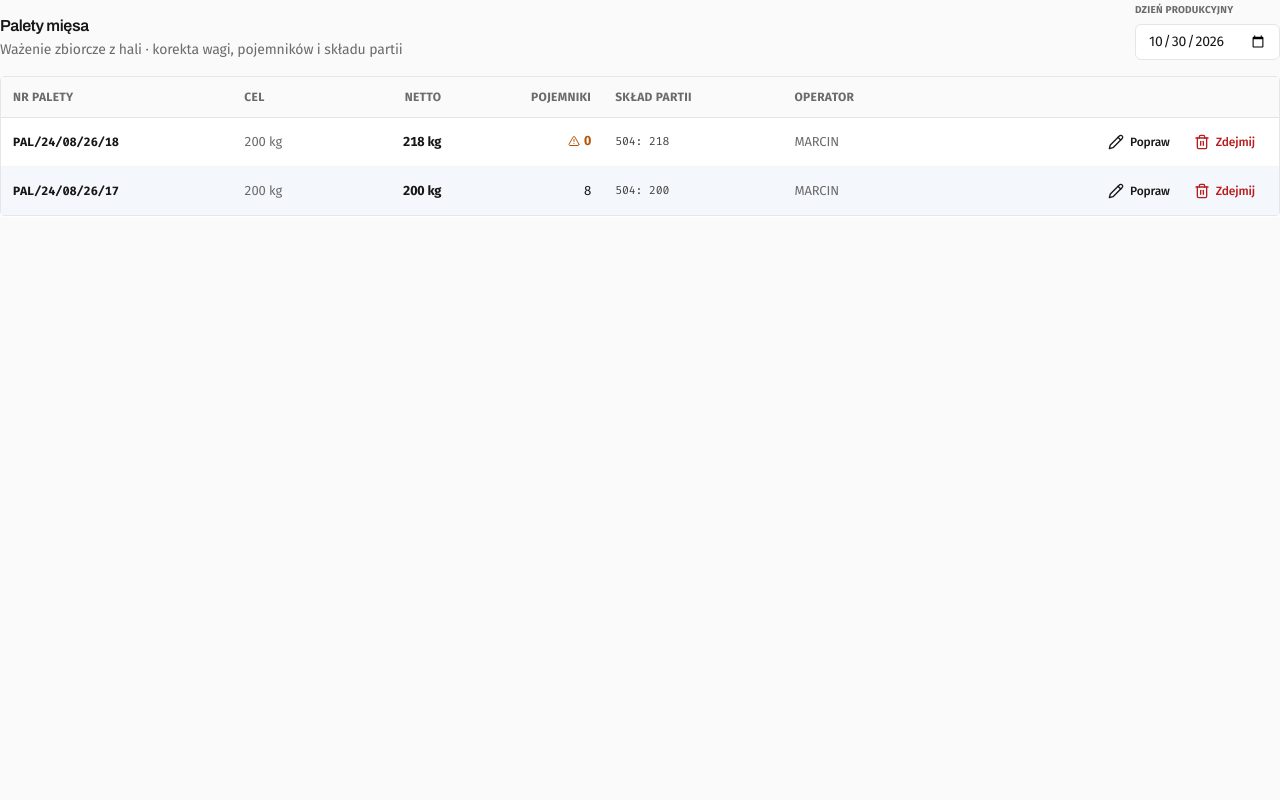
Test case: MeatPalletsPage — korekta palety › bez powodu nie da się zapisać
This screenshot has width=1280, height=800.
Click the button "Popraw" in the row of "PAL/24/08/26/18" at coordinates (1139, 142), box [1096, 126, 1182, 158]
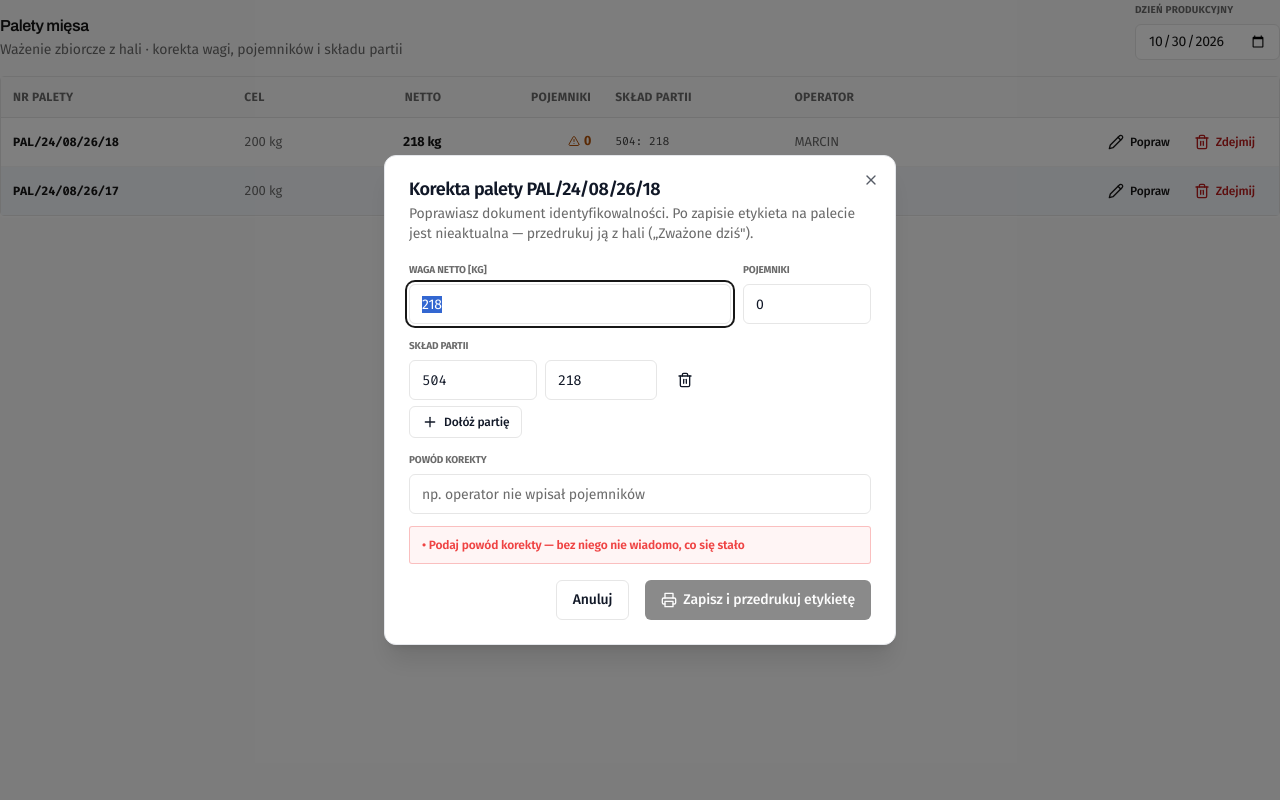
Expected: the button "Zapisz i przedrukuj etykietę" is disabled, [645, 580, 871, 620]
Expected: the list with test id "korekta-bledy" shows "powód", [429, 538, 745, 552]
